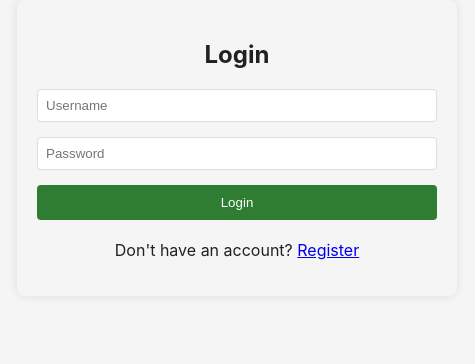
Test: Login Component › displays error message on service failure
In the field with placeholder "Username": (237, 105) [37,89,437,122], type "wrong"
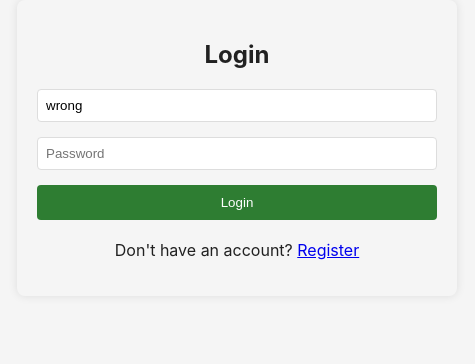
In the password field with placeholder "Password": (237, 153) [37,137,437,170], type "pass"
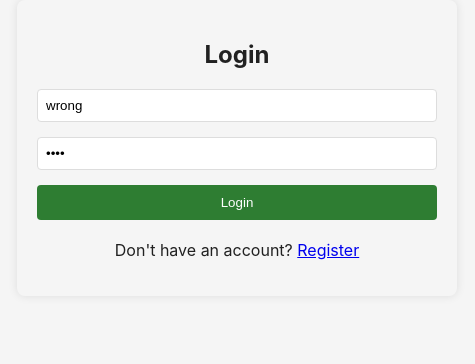
Click the button "Login": (237, 202) [37,185,437,220]
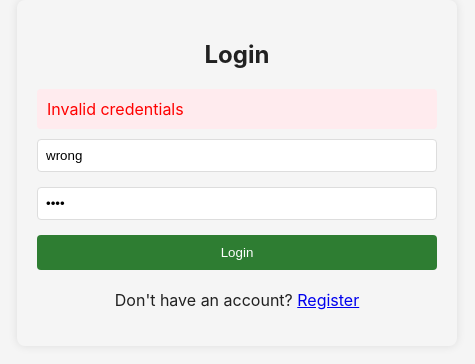
expect the text "Invalid credentials" is shown: met, box [37,89,437,129]
